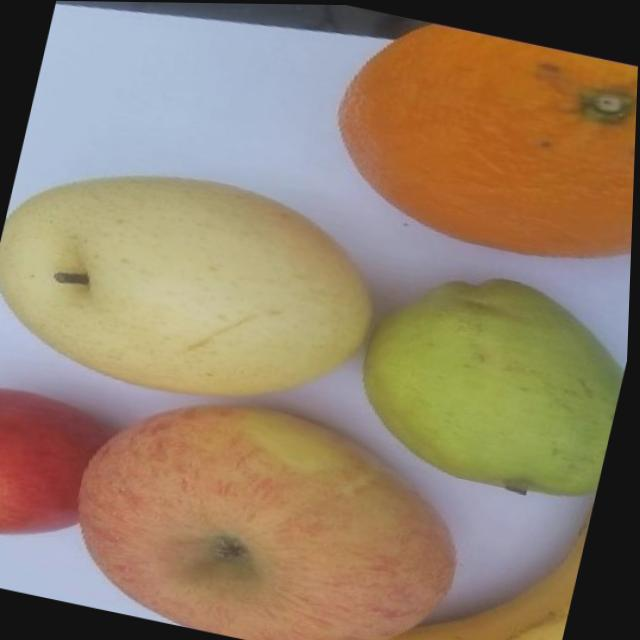Apple: (56, 374, 489, 640), (0, 375, 134, 559)
Banana: (379, 468, 598, 640)
Orange: (316, 8, 640, 277)
